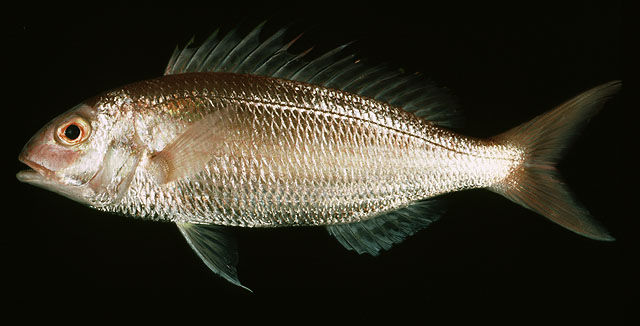fish: (17, 22, 626, 292)
